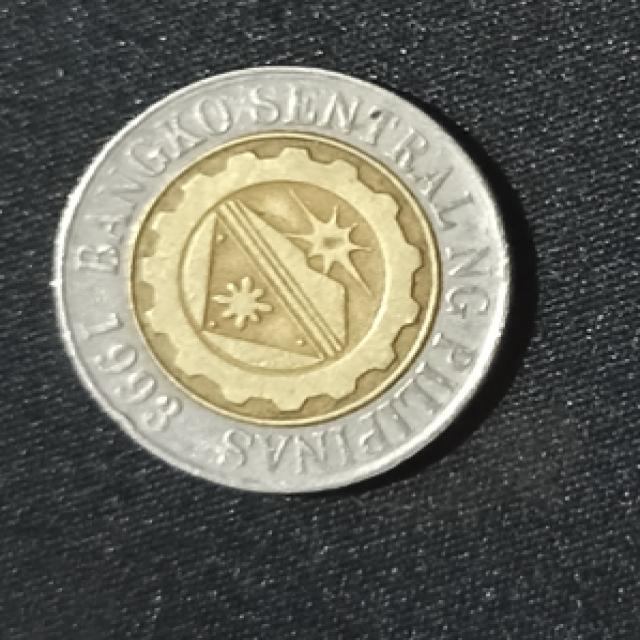10_peso: (54, 68, 509, 490)
